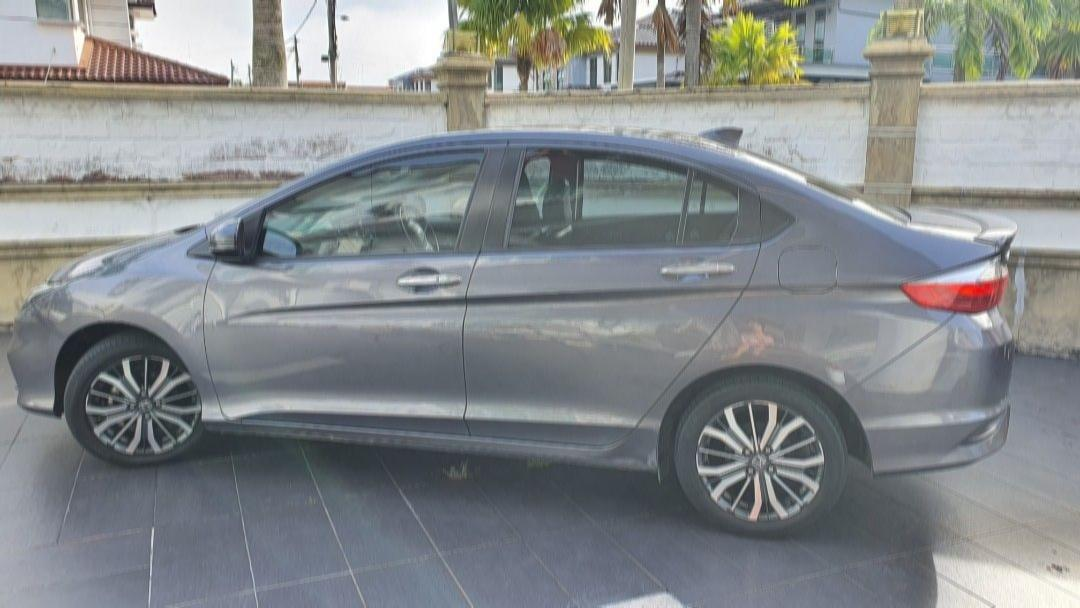Fender - -F-L-: (34, 255, 228, 435)
Fender - -R-L-: (639, 227, 961, 479)
Front bumper: (6, 325, 69, 424)
Headlight - -L-: (11, 265, 77, 318)
Passenger-s door - -F-L-: (210, 133, 484, 445)
Passenger-s door - -R-L-: (486, 131, 768, 445)
Rear bumper: (856, 331, 1027, 496)
Rear light - -L-: (895, 243, 1020, 320)
Side bumper - -L-: (194, 409, 668, 483)
Side mirror - -L-: (201, 213, 252, 264)
